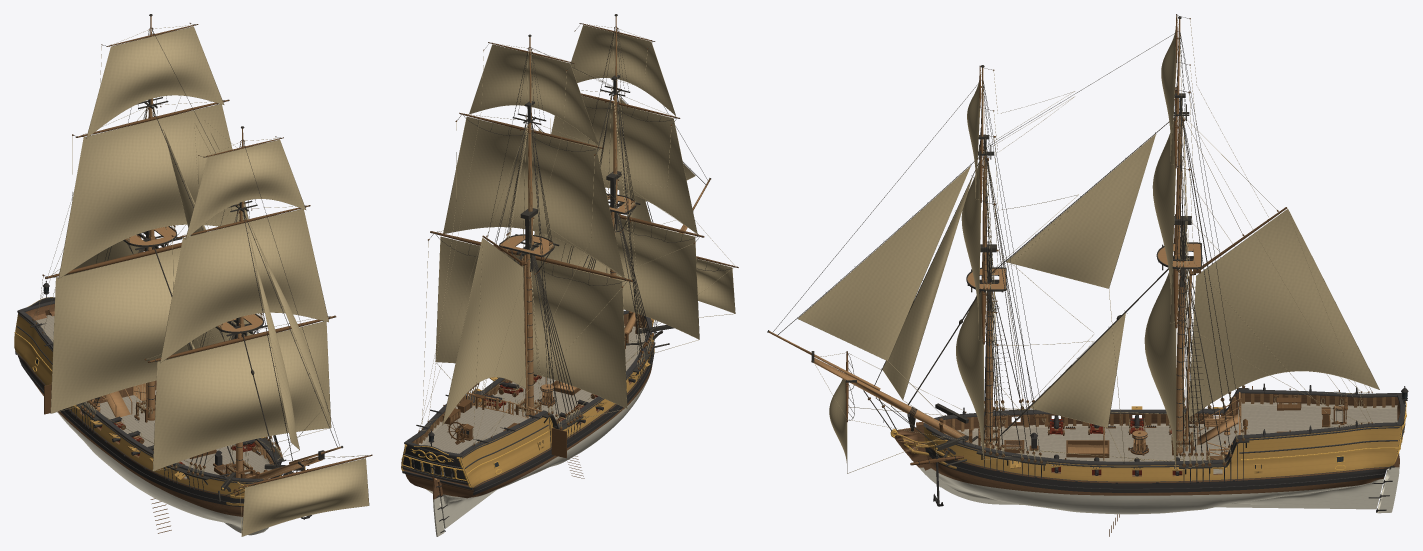
The model's file is ship.glb.
3 views of the same model, side by side, from view 1: azimuth 30°, elevation 25°; view 2: azimuth 150°, elevation 25°; view 3: azimuth 270°, elevation 25° (orthographic). The views are drawn at different scales.
Visible parts, largest first — view 1: fore_course_set, main_topsail_set, main_course_set, fore_topsail_set, hull, main_topgallant_set, spritsail_set, fore_topgallant_set, rigging_running_sailing, hull_rail, fore_topmast_staysail_set, jib_set (+8 smaller); view 2: main_topsail_set, main_course_set, hull, fore_topsail_set, fore_course_set, gaff_sail_set, main_topgallant_set, fore_topgallant_set, rigging_running_sailing, spritsail_set, hull_rail, stern_transom (+11 smaller); view 3: hull, gaff_sail_set, jib_set, main_topmast_staysail_set, rigging_running_sailing, main_staysail_set, hull_rail, fore_topmast_staysail_set, main_course_set, fore_course_set, main_topsail_set, bowsprit (+10 smaller).
Boxes of the visible parts, x1,y1,x2,y2 form: fore_course_set: (153, 321, 330, 470); main_topsail_set: (59, 104, 248, 278); main_course_set: (51, 248, 252, 413); fore_topsail_set: (160, 209, 328, 362); hull: (14, 303, 279, 529); main_topgallant_set: (87, 27, 223, 137); spritsail_set: (242, 458, 368, 536); fore_topgallant_set: (186, 140, 305, 238); rigging_running_sailing: (34, 24, 313, 475); hull_rail: (17, 300, 280, 482); fore_topmast_staysail_set: (251, 243, 299, 449); jib_set: (255, 235, 329, 422); main_topsail_set: (443, 117, 624, 277); main_course_set: (435, 237, 627, 408); hull: (403, 314, 654, 522); fore_topsail_set: (551, 96, 697, 233); fore_course_set: (534, 219, 699, 338); gaff_sail_set: (442, 238, 525, 424); main_topgallant_set: (469, 44, 598, 145); fore_topgallant_set: (570, 25, 675, 115); rigging_running_sailing: (420, 32, 692, 444); spritsail_set: (696, 259, 735, 313); hull_rail: (404, 310, 652, 457); stern_transom: (401, 445, 473, 490); hull: (923, 393, 1404, 514); gaff_sail_set: (1189, 209, 1379, 416); jib_set: (798, 167, 969, 360); main_topmast_staysail_set: (1006, 135, 1155, 288); rigging_running_sailing: (936, 20, 1371, 465); main_staysail_set: (1030, 313, 1125, 427); hull_rail: (926, 389, 1405, 465); fore_topmast_staysail_set: (882, 180, 971, 399); main_course_set: (1144, 269, 1175, 467); fore_course_set: (956, 290, 983, 456); main_topsail_set: (1152, 118, 1175, 312); bowsprit: (767, 330, 972, 443).
Bounding box in the file's own units: 16.71 × 36.43 × 40.24.
Materials: 31 (31 with a texture image).
